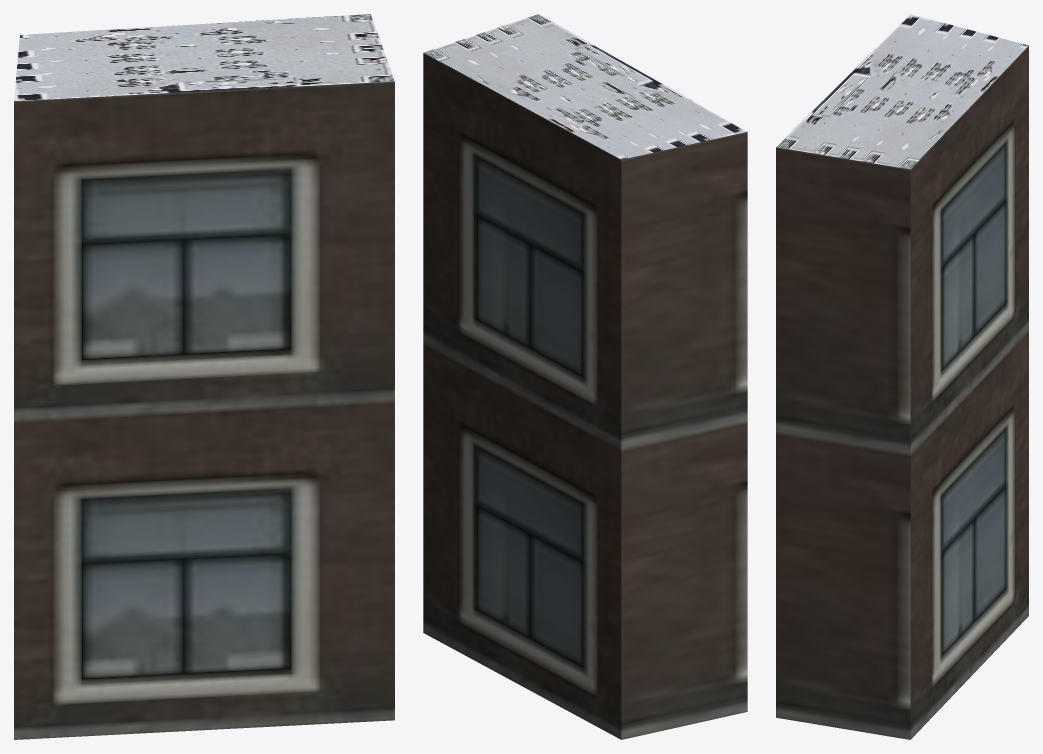
Rendered from ResTex__4000.fbx.
3 views of the same model, side by side, from view 1: azimuth 30°, elevation 25°; view 2: azimuth 150°, elevation 25°; view 3: azimuth 270°, elevation 25° (orthographic). The views are drawn at different scales.
Visible parts, largest first — view 1: CityEngineMaterial_16_m, CityEngineMaterial_15_m; view 2: CityEngineMaterial_16_m, CityEngineMaterial_15_m; view 3: CityEngineMaterial_16_m, CityEngineMaterial_15_m.
Boxes of the visible parts, bbox=[...] form: CityEngineMaterial_16_m: bbox=[14, 81, 394, 739]; CityEngineMaterial_15_m: bbox=[14, 14, 394, 101]; CityEngineMaterial_16_m: bbox=[423, 53, 747, 739]; CityEngineMaterial_15_m: bbox=[424, 14, 746, 159]; CityEngineMaterial_16_m: bbox=[776, 46, 1028, 739]; CityEngineMaterial_15_m: bbox=[776, 14, 1028, 169].
Bounding box in the file's own units: 3.51 × 6 × 2.41.
2 materials, 2 textured.
